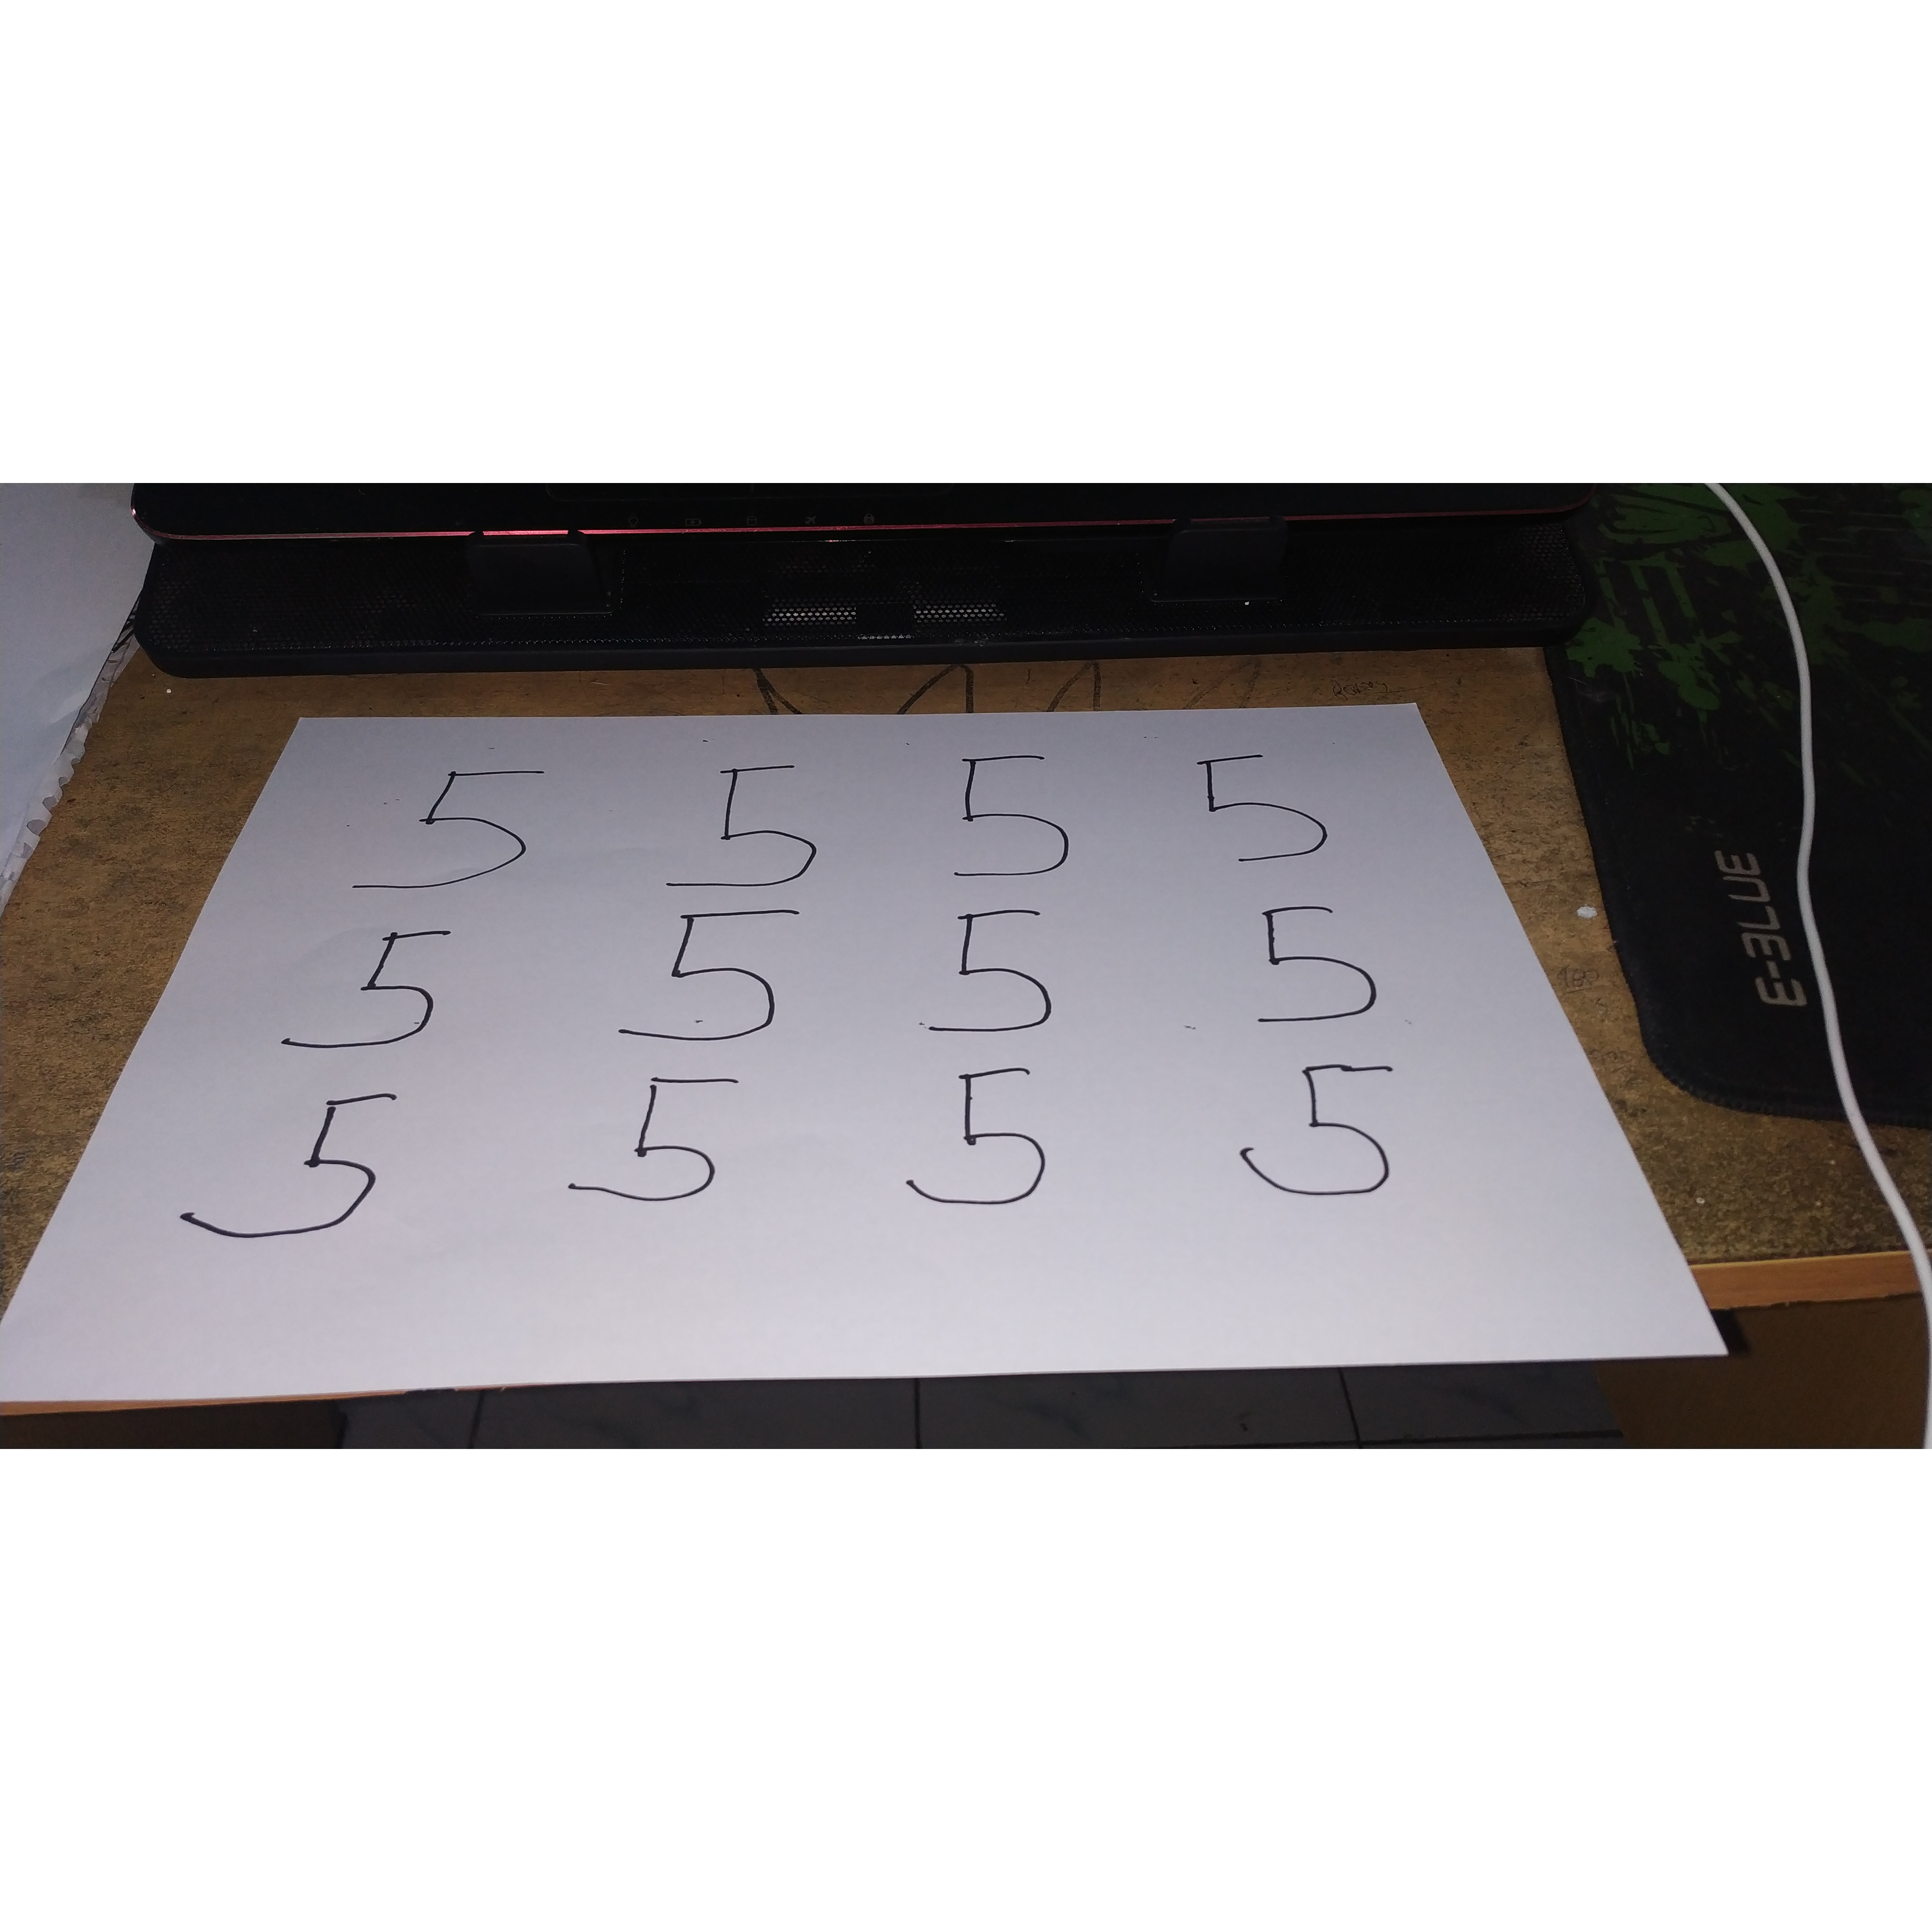num5: (171, 1071, 440, 1247), (337, 752, 559, 909), (278, 922, 484, 1069), (616, 907, 818, 1050), (656, 743, 837, 903), (564, 1065, 751, 1218), (891, 1067, 1074, 1216), (1227, 1065, 1422, 1203), (1231, 899, 1414, 1037), (1179, 741, 1360, 878), (931, 741, 1095, 890), (925, 903, 1072, 1046)
